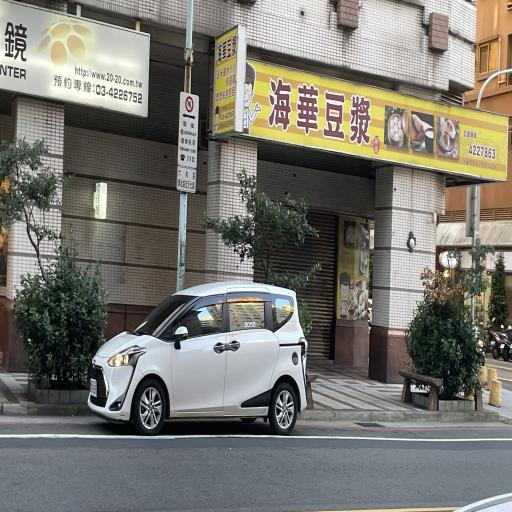MIU: (255, 364, 325, 449)
car: (79, 274, 307, 440)
redline: (296, 410, 391, 442)
